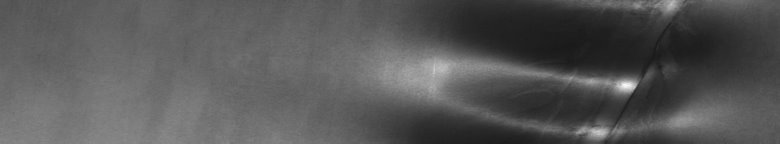ke: (464, 4, 686, 136)
